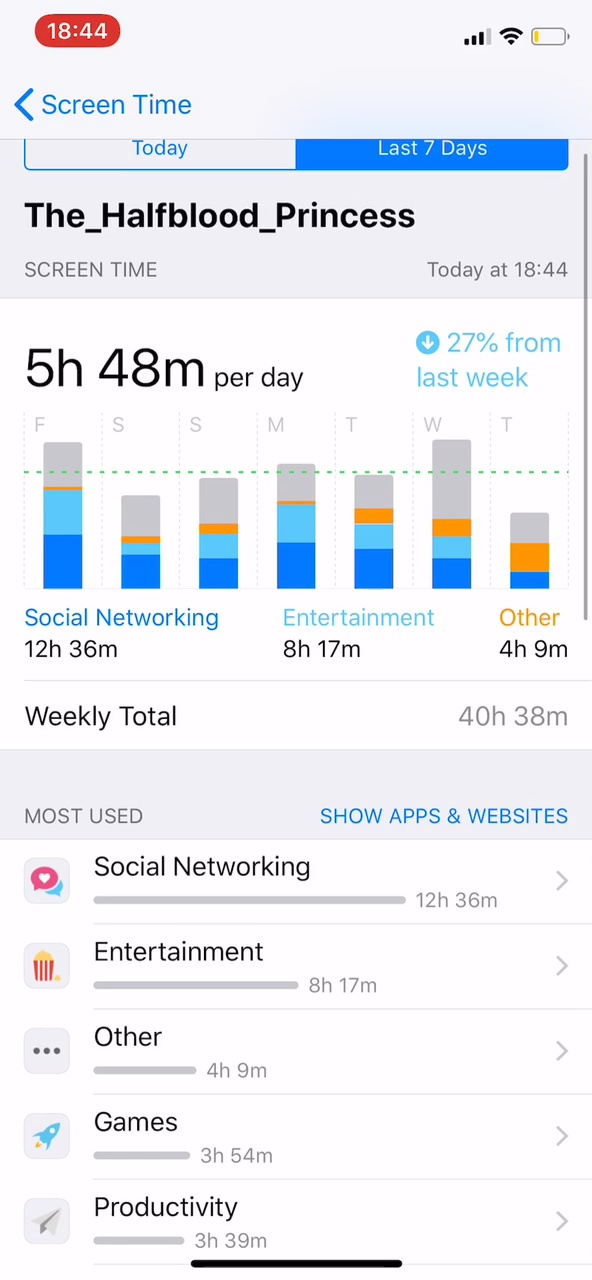use_over: (17, 603, 581, 736)
